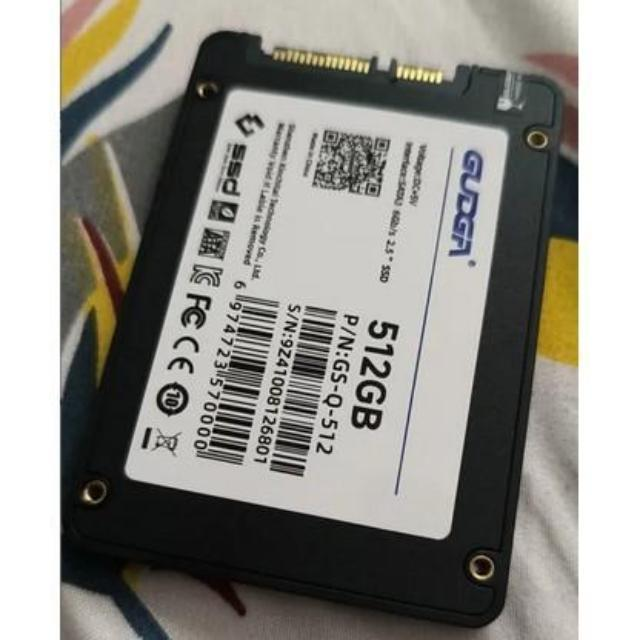DISK: (61, 28, 564, 632)
